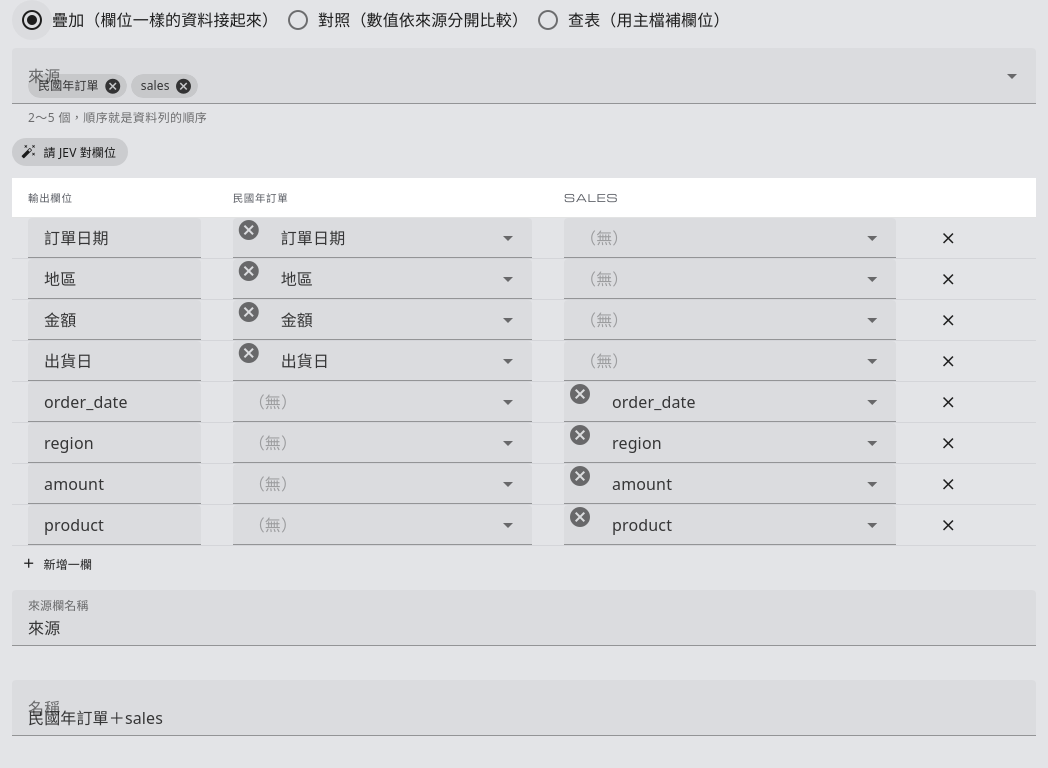
MergeForm（JEV 對欄位） › says so when JEV finds nothing, and shows a failure in the error area without touching the table
Step 1. Click the button "請 JEV 對欄位" → (70, 152), box x1=12 y1=138 x2=128 y2=166
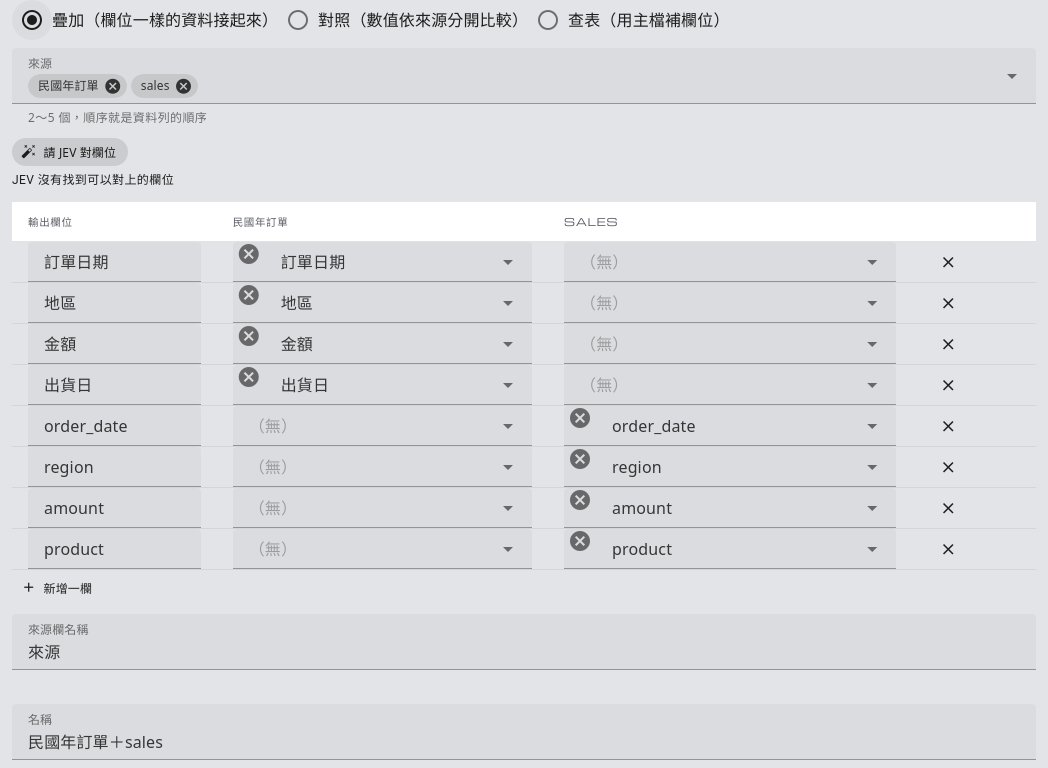
Expected: the text "JEV 沒有找到可以對上的欄位" is shown, x1=12 y1=173 x2=174 y2=187
Step 2. Click the button "請 JEV 對欄位" → (70, 152), box x1=12 y1=138 x2=128 y2=166
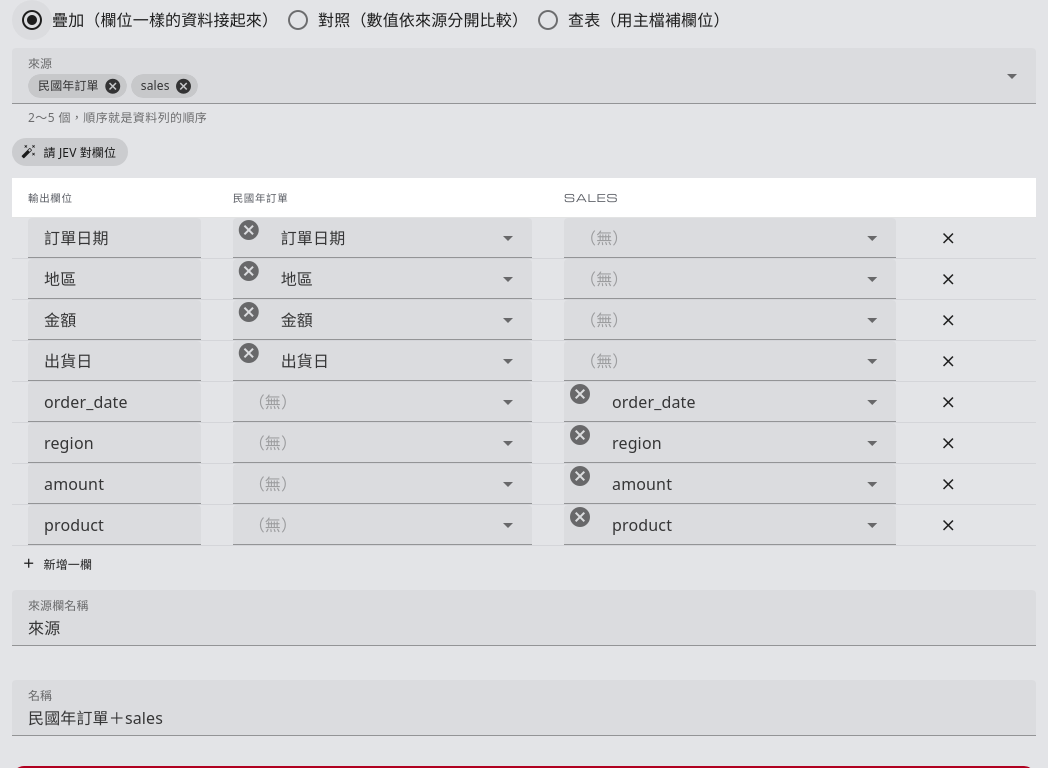
Expected: the text "JEV 沒有找到" is gone
